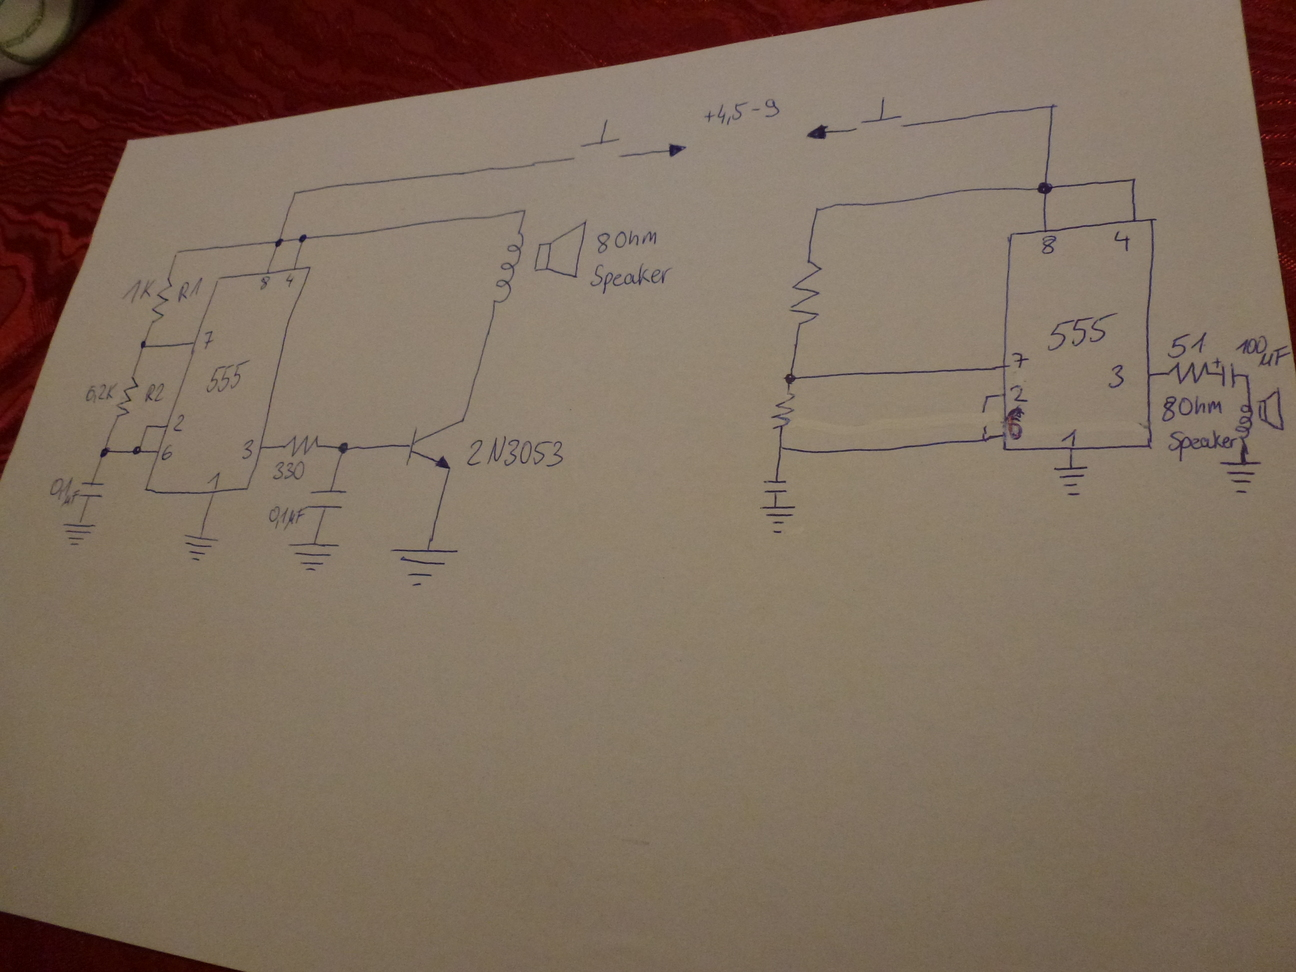capacitor.polarized: (1211, 355, 1238, 390)
capacitor.unpolarized: (304, 485, 347, 517), (760, 476, 791, 496), (78, 480, 106, 501)
gnd: (389, 542, 459, 589), (287, 538, 339, 573), (1219, 458, 1263, 497), (757, 503, 802, 539), (1049, 463, 1092, 499), (59, 516, 98, 551), (180, 531, 220, 565)
integrated_circuit: (143, 264, 313, 495), (1000, 216, 1159, 454)
junction: (780, 368, 799, 390), (1034, 178, 1054, 198), (333, 439, 350, 456), (809, 200, 826, 217), (1046, 100, 1059, 112), (98, 446, 111, 458), (296, 232, 309, 244), (289, 186, 301, 198), (272, 236, 285, 248), (1128, 173, 1139, 185), (979, 433, 989, 445), (132, 445, 142, 456), (982, 392, 993, 402), (171, 247, 182, 257), (776, 443, 787, 452), (138, 340, 148, 349), (143, 421, 152, 431), (519, 207, 530, 215)
resistor: (785, 256, 825, 332), (147, 275, 175, 325), (769, 389, 798, 432), (1167, 360, 1210, 386), (282, 432, 318, 458), (115, 380, 134, 419)
speaker: (491, 218, 588, 306), (1233, 385, 1286, 441)
switch: (565, 117, 629, 167), (845, 94, 911, 137)
text: (463, 434, 565, 470), (588, 261, 674, 296), (1044, 313, 1111, 353), (1166, 428, 1238, 464), (704, 96, 783, 127), (1233, 336, 1292, 369), (595, 228, 660, 255), (204, 359, 250, 396), (1160, 394, 1226, 420), (264, 502, 306, 532), (1167, 330, 1209, 357), (48, 474, 81, 508), (119, 277, 157, 306), (268, 458, 306, 483), (175, 276, 205, 305), (81, 381, 116, 404), (1005, 407, 1026, 442), (143, 380, 166, 404), (1008, 382, 1031, 405), (1112, 228, 1132, 254), (1106, 363, 1125, 390), (1059, 426, 1078, 450), (1010, 349, 1030, 371), (1041, 233, 1057, 256), (239, 437, 254, 459), (206, 470, 225, 487), (280, 272, 298, 288), (171, 414, 186, 433), (259, 273, 275, 290), (160, 444, 173, 461), (202, 330, 215, 347)
transistor: (404, 415, 459, 472)
vss: (800, 121, 830, 142), (666, 140, 688, 159)
